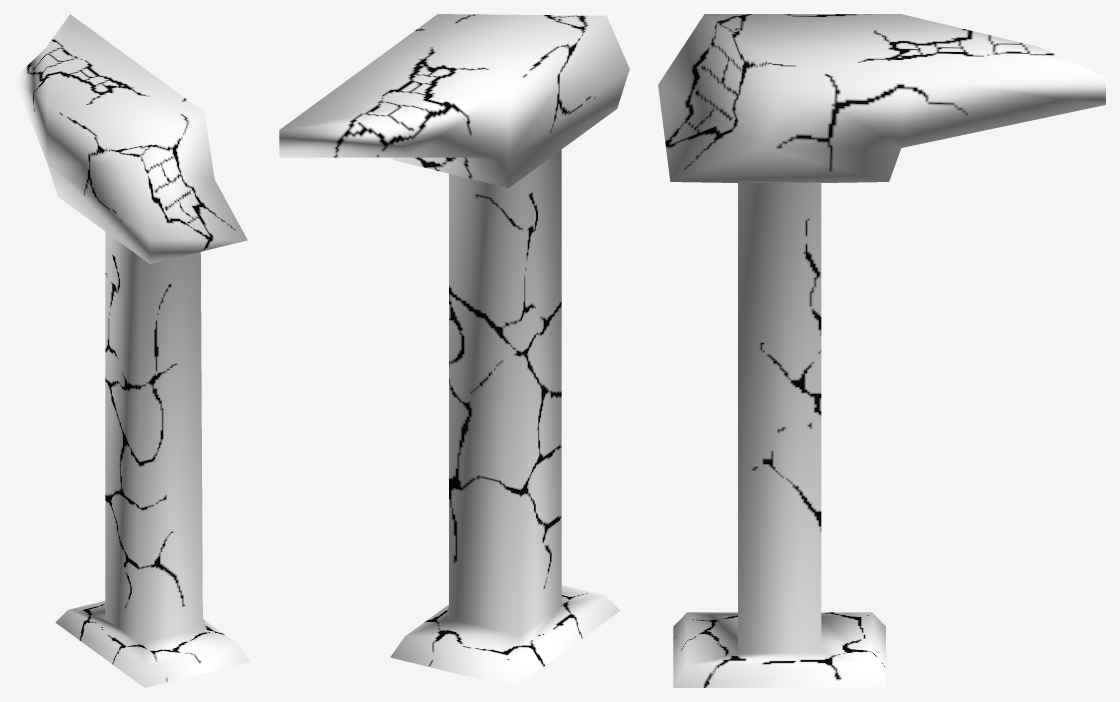
Rendered from Bridge_01_05.fbx.
3 renders of one model, left to right at view 1: azimuth 30°, elevation 25°; view 2: azimuth 150°, elevation 25°; view 3: azimuth 270°, elevation 25°, orthographic. The views are drawn at different scales.
Parts seen in each view (by area): view 1: Bridge_01_05; view 2: Bridge_01_05; view 3: Bridge_01_05.
Boxes of the visible parts, x1=… form: Bridge_01_05: x1=14, y1=14, x2=250, y2=687; Bridge_01_05: x1=279, y1=14, x2=629, y2=687; Bridge_01_05: x1=658, y1=14, x2=1105, y2=687.
Bounding box in the file's own units: 4.14 × 18.67 × 12.39.
